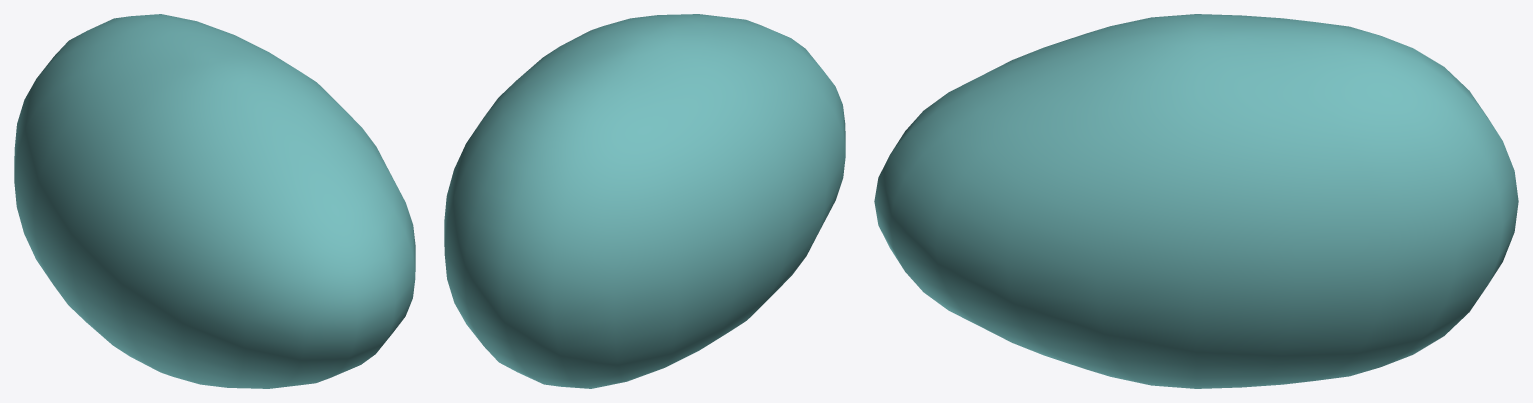
Rendered from Double_Arrow.gltf.
The picture shows the model from 3 angles, left to right: view 1: azimuth 30°, elevation 25°; view 2: azimuth 150°, elevation 25°; view 3: azimuth 270°, elevation 25°; orthographic projection. The views are drawn at different scales.
Parts seen in each view (by area): view 1: Dot_Arrow6; view 2: Dot_Arrow6; view 3: Dot_Arrow6.
Boxes of the visible parts, left/top/right/bottom form: Dot_Arrow6: left=14, top=14, right=415, bottom=388; Dot_Arrow6: left=444, top=14, right=845, bottom=388; Dot_Arrow6: left=874, top=14, right=1518, bottom=388.
Size of the model in its own units: 2 by 2 by 3.43.
